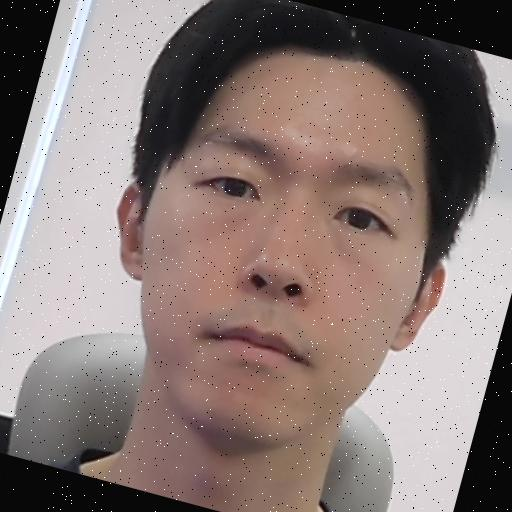no_glasses: (43, 0, 512, 503)
